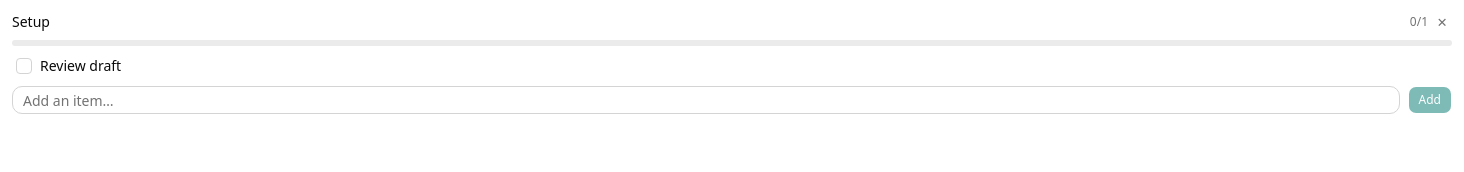
Test case: TaskChecklist › Escape while renaming reverts to the original title without saving
Click the text "Setup".
click(31, 22)  # box [12,12,50,32]
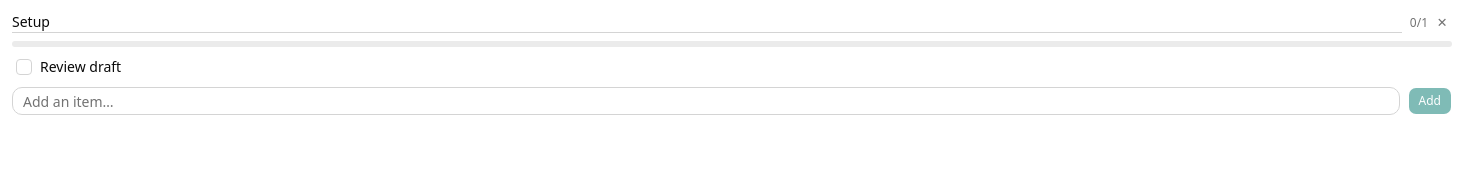
Replace the text in the field showing "Setup" with "Changed" at (707, 22), box [12,12,1402,33]
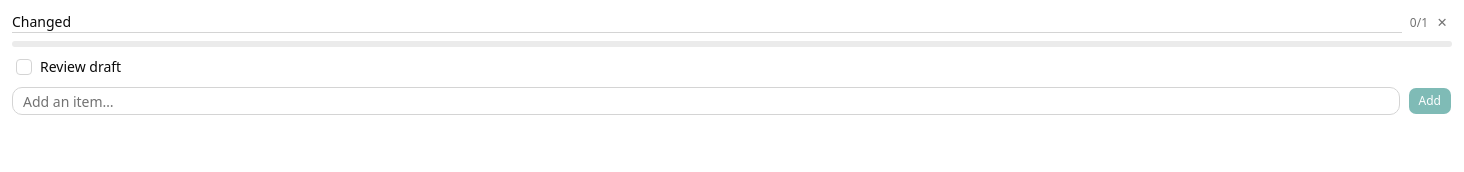
Press Escape in the field showing "Setup", box [12,12,1402,33]
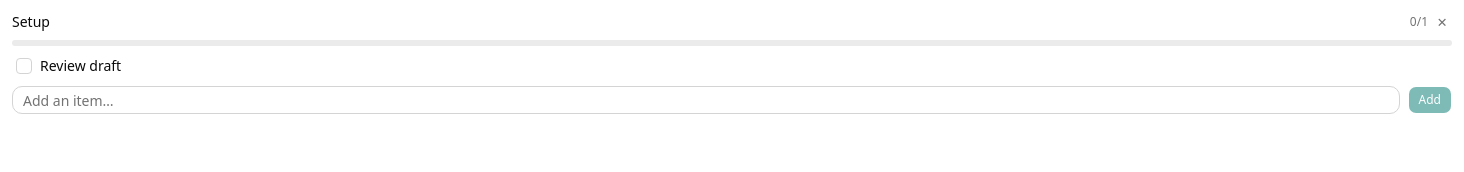
Check: the text "Setup" is shown, box [12,12,50,32]
